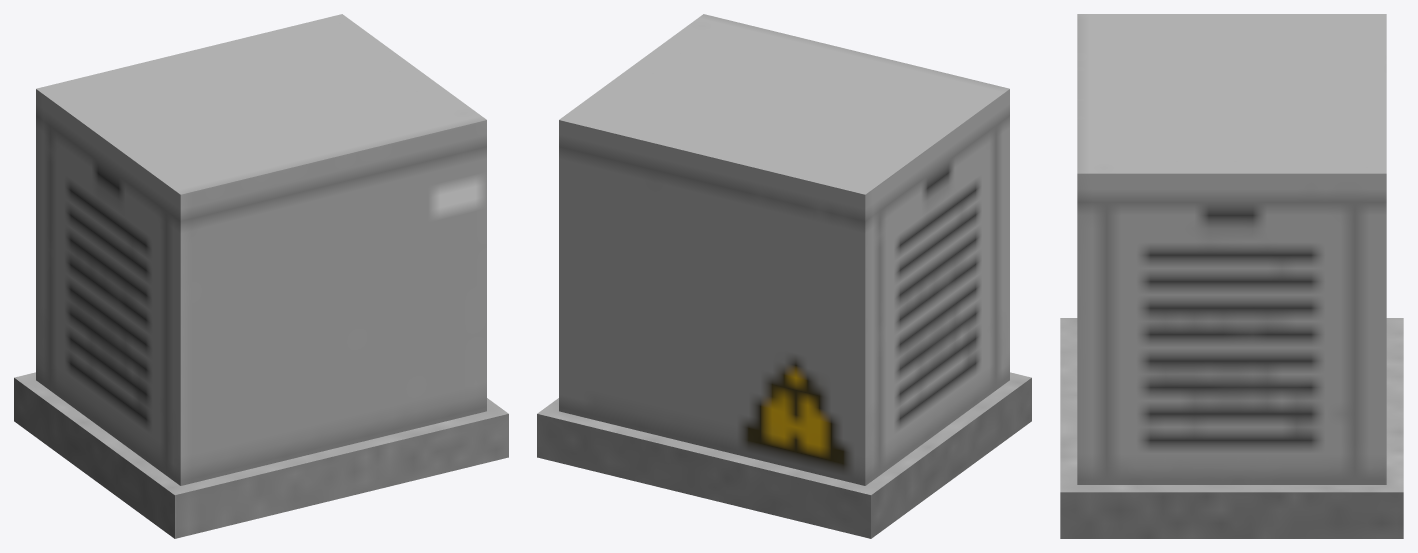
File: Switch_Box_001_B.FBX
3 views of the same model, side by side, from view 1: azimuth 30°, elevation 25°; view 2: azimuth 150°, elevation 25°; view 3: azimuth 270°, elevation 25° (orthographic). The views are drawn at different scales.
Parts seen in each view (by area): view 1: Switch_Box_001_B; view 2: Switch_Box_001_B; view 3: Switch_Box_001_B.
Boxes of the visible parts, x1,y1,x2,y2 form: Switch_Box_001_B: (14,14,508,538); Switch_Box_001_B: (537,14,1031,538); Switch_Box_001_B: (1060,14,1403,538).
Size of the model in its own units: 120 by 100 by 115.
